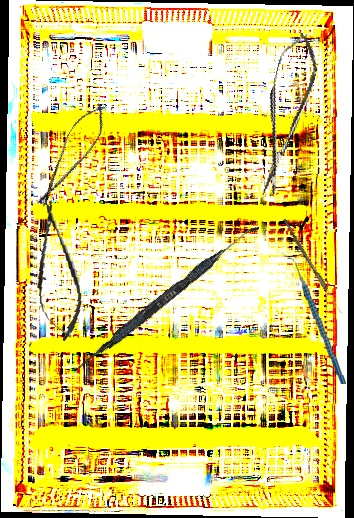Chopper: (282, 250, 346, 387)
Micro Scissor: (244, 29, 326, 200), (28, 95, 116, 215), (25, 196, 88, 344)
Spatula Surgical: (73, 218, 260, 377)
Surgical Spoon: (280, 218, 345, 315)
